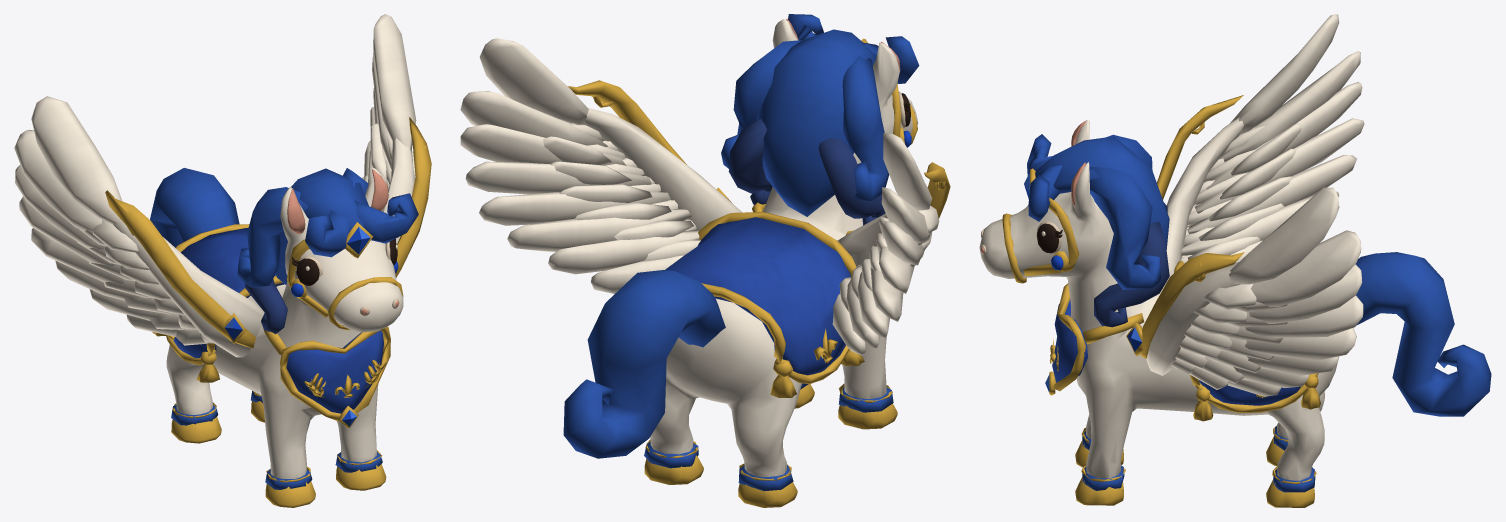
Rendered from RoyalPegasusStatue.glb.
The picture shows the model from 3 angles, left to right: view 1: azimuth 30°, elevation 25°; view 2: azimuth 150°, elevation 25°; view 3: azimuth 270°, elevation 25°; orthographic projection. The views are drawn at different scales.
Visible parts, largest first — view 1: RoyalPegasus Statue; view 2: RoyalPegasus Statue; view 3: RoyalPegasus Statue.
Part boxes in pixels (left/top/right/bottom): RoyalPegasus Statue: left=14, top=14, right=431, bottom=507; RoyalPegasus Statue: left=460, top=14, right=950, bottom=507; RoyalPegasus Statue: left=979, top=14, right=1491, bottom=507.
Size of the model in its own units: 2.34 by 2.08 by 2.56.
2 materials, 2 textured.
